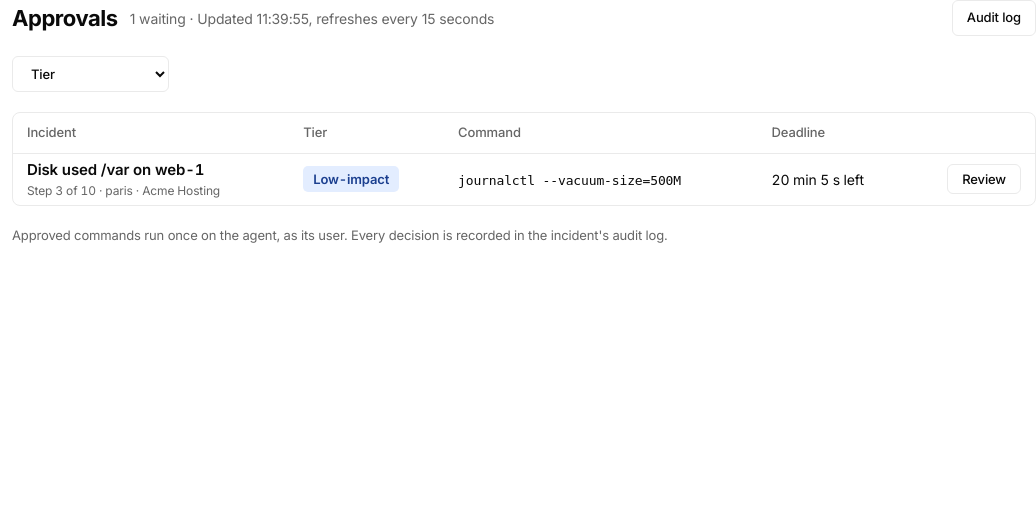
Test: ApprovalQueue › says when someone decided first
Click the button with aria-label "Review the command for web-1".
click(984, 179)  # box [947,164,1021,194]
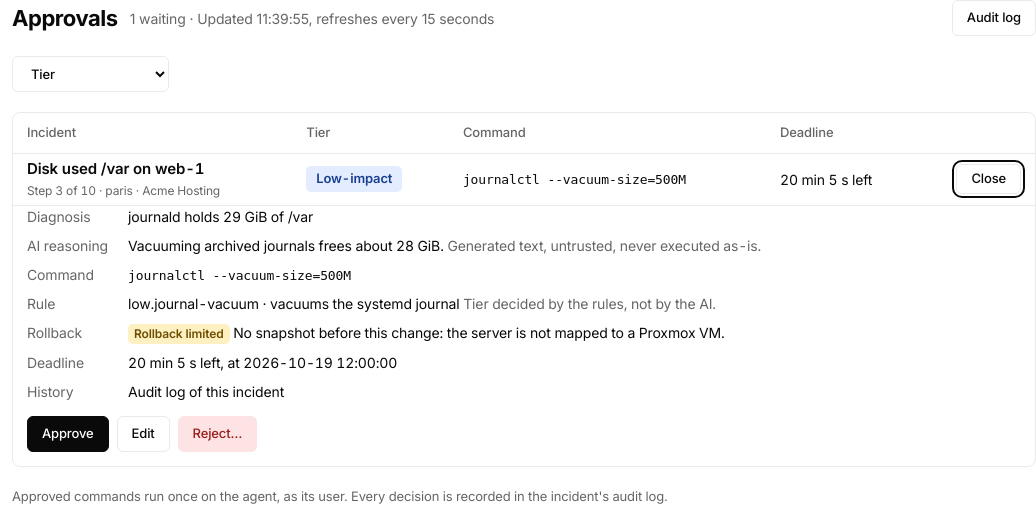
Click the button "Approve".
click(68, 434)  # box [27,416,109,452]
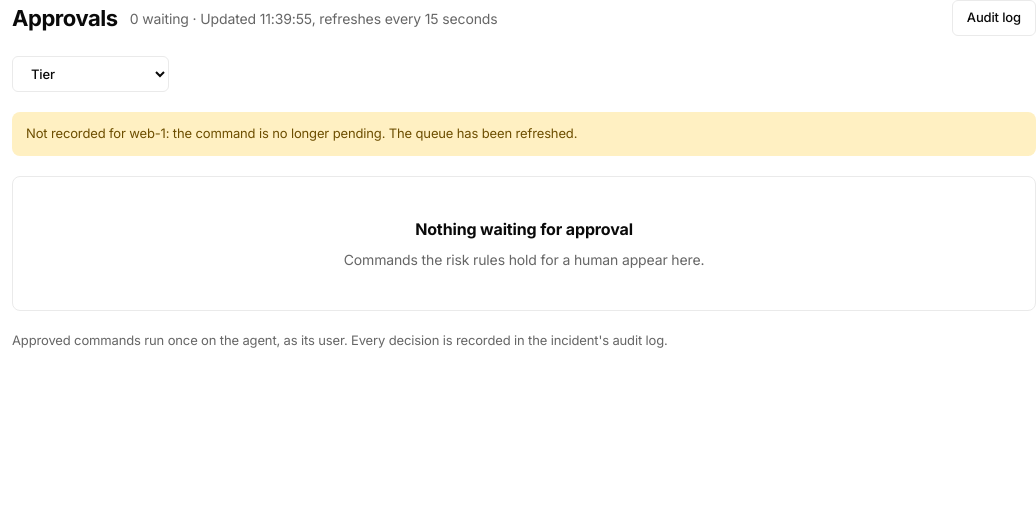
Expected: the text "Not recorded for web-1: the command is no longer pending. The queue has been refreshed." is shown, [26,125,577,141]
Expected: the text "Nothing waiting for approval" is shown, [415,216,633,240]
